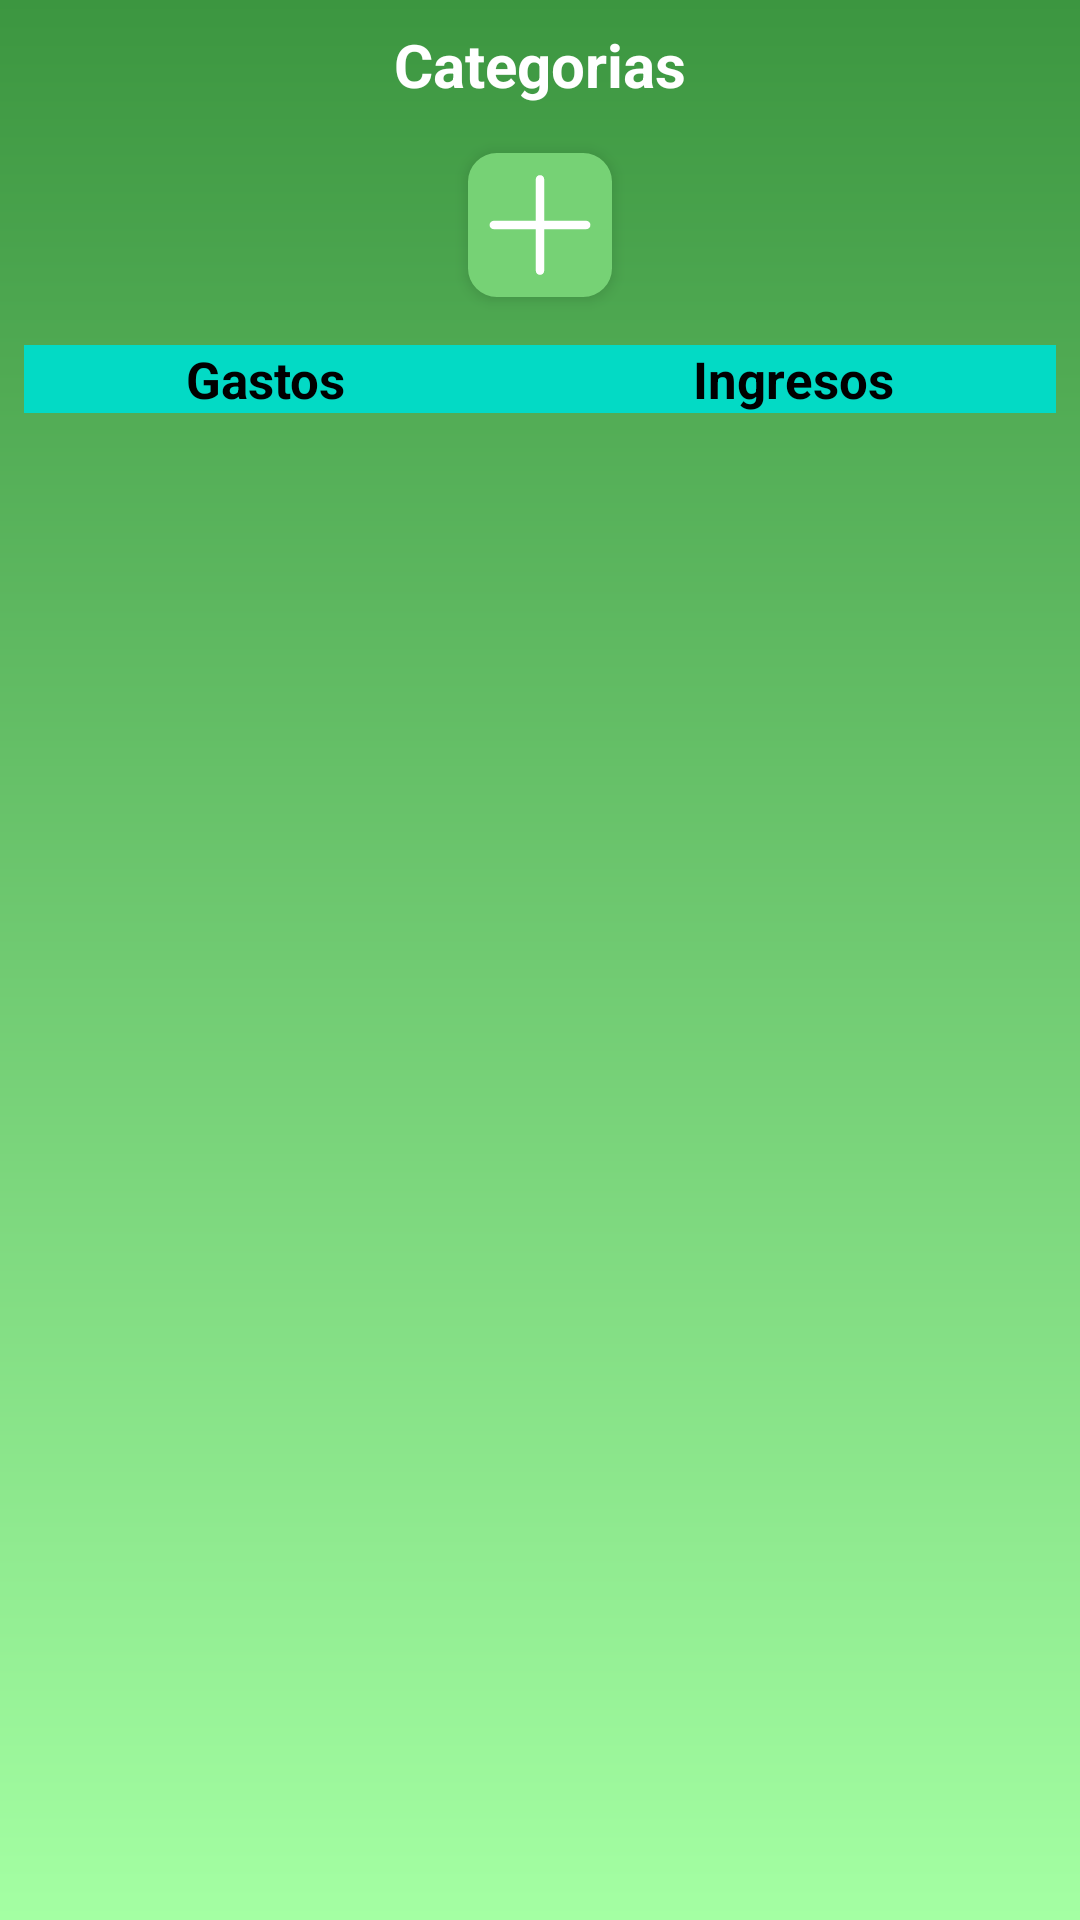

Point at icon controls on the screen. Image size 1080 × 1920, points as (x,y).
plus: (540,225)
